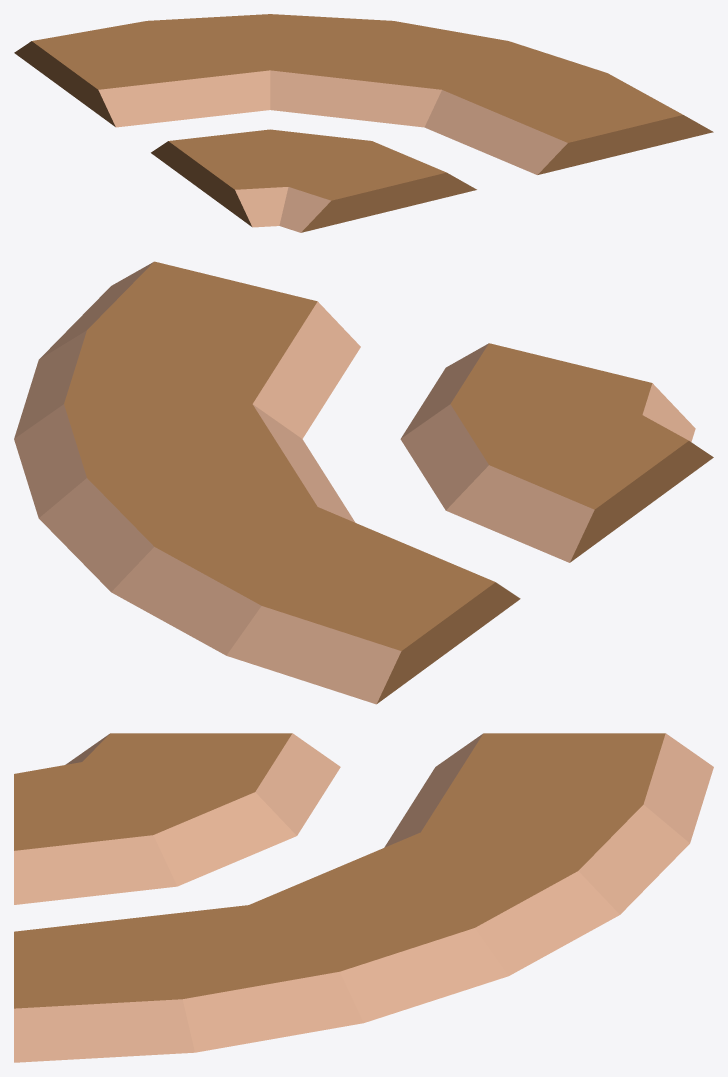
Rendered from crops_dirtDoubleRowCorner.glb.
3 renders of one model, top to bottom at view 1: azimuth 30°, elevation 25°; view 2: azimuth 150°, elevation 25°; view 3: azimuth 270°, elevation 25°, orthographic. The views are drawn at different scales.
Visible parts, largest first — view 1: crops_dirtDoubleRowCorner; view 2: crops_dirtDoubleRowCorner; view 3: crops_dirtDoubleRowCorner.
Part boxes in pixels (left/top/right/bottom): crops_dirtDoubleRowCorner: left=14, top=14, right=713, bottom=232; crops_dirtDoubleRowCorner: left=14, top=261, right=713, bottom=704; crops_dirtDoubleRowCorner: left=14, top=733, right=713, bottom=1062.
Size of the model in its own units: 0.938 by 0.05 by 0.938.
